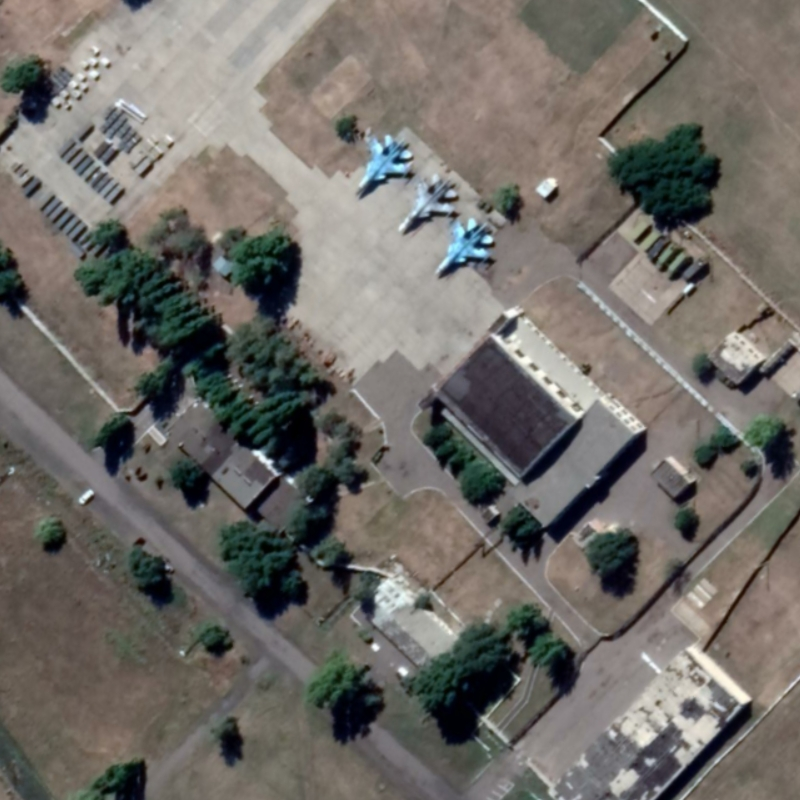A19: (350, 128, 418, 199), (432, 216, 500, 281), (396, 172, 461, 235)
